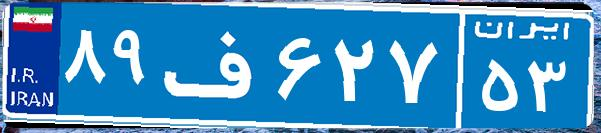2: (330, 28, 385, 110)
3: (525, 38, 570, 115)
5: (475, 38, 525, 113)
6: (273, 28, 330, 110)
7: (385, 28, 445, 110)
8: (57, 26, 110, 107)
9: (110, 28, 158, 105)
ف: (158, 15, 273, 115)
